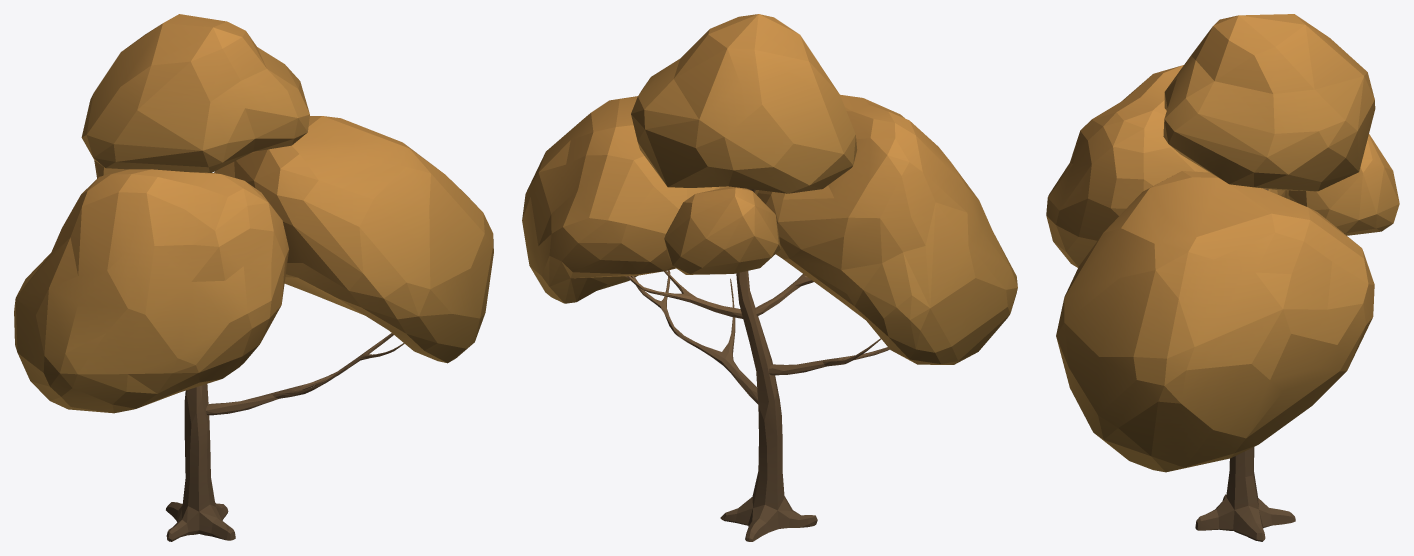
File: Autumn_Tree_10.glb
The picture shows the model from 3 angles, left to right: view 1: azimuth 30°, elevation 25°; view 2: azimuth 150°, elevation 25°; view 3: azimuth 270°, elevation 25°; orthographic projection. The views are drawn at different scales.
Visible parts, largest first — view 1: Autumn_Tree_10_LOD0; view 2: Autumn_Tree_10_LOD0; view 3: Autumn_Tree_10_LOD0.
Boxes of the visible parts, x1,y1,x2,y2 form: Autumn_Tree_10_LOD0: (14,14,493,541); Autumn_Tree_10_LOD0: (522,14,1017,541); Autumn_Tree_10_LOD0: (1046,14,1399,541).
Size of what is drawn, in the model's own units: 12.47 by 13.05 by 8.14.
Materials: 1 (1 with a texture image).
